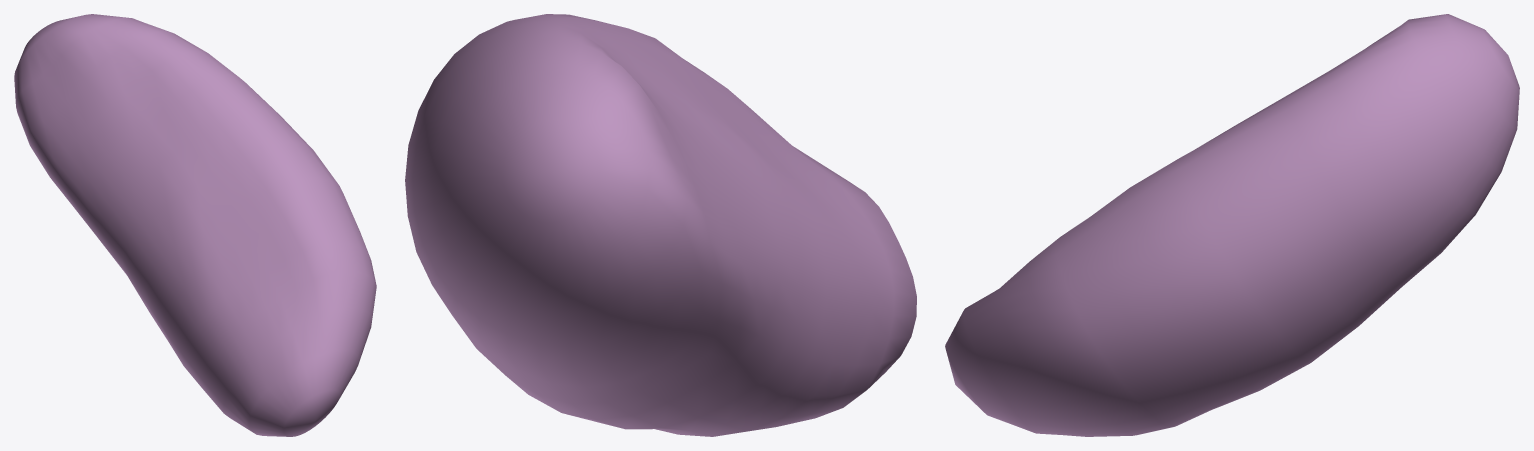
3 views of the same model, side by side, from view 1: azimuth 30°, elevation 25°; view 2: azimuth 150°, elevation 25°; view 3: azimuth 270°, elevation 25° (orthographic). The views are drawn at different scales.
Parts seen in each view (by area): view 1: 左侧橄榄; view 2: 左侧橄榄; view 3: 左侧橄榄.
Part boxes in pixels (<box>): 左侧橄榄: <box>14,14,376,436</box>; 左侧橄榄: <box>405,14,916,436</box>; 左侧橄榄: <box>945,14,1519,436</box>.
Bounding box in the file's own units: 0.0114 × 0.0152 × 0.0205.
